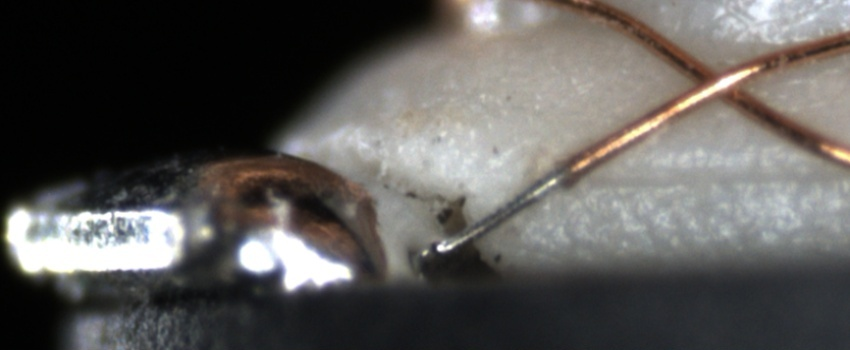CL: (668, 51, 760, 114)
DL: (568, 145, 850, 209)
TS: (431, 170, 564, 255)
TTCW: (425, 132, 625, 255)
